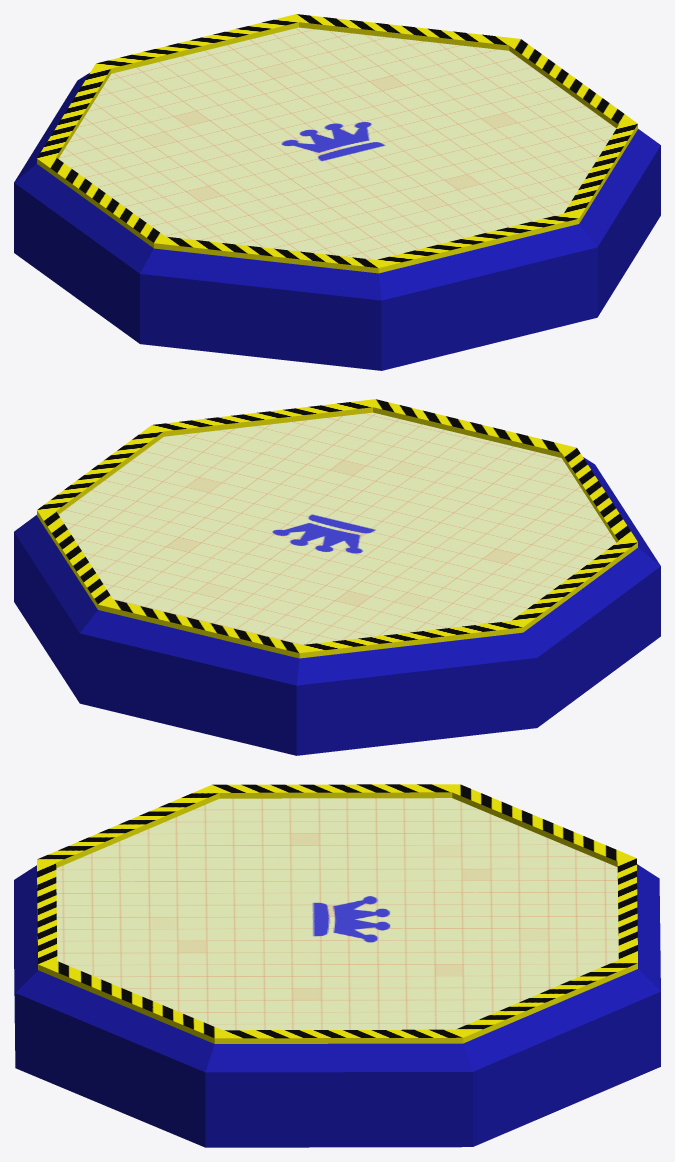
3 views of the same model, one above another, from view 1: azimuth 30°, elevation 25°; view 2: azimuth 150°, elevation 25°; view 3: azimuth 270°, elevation 25° (orthographic). The views are drawn at different scales.
Parts seen in each view (by area): view 1: floor_octagon_no_hole; view 2: floor_octagon_no_hole; view 3: floor_octagon_no_hole.
Boxes of the visible parts, box(x1,y1,x2,y2) form: floor_octagon_no_hole: box(14, 14, 660, 370); floor_octagon_no_hole: box(14, 399, 660, 755); floor_octagon_no_hole: box(14, 784, 660, 1147).
Bounding box in the file's own units: 2358 × 401 × 2358.
1 material, 1 textured.
